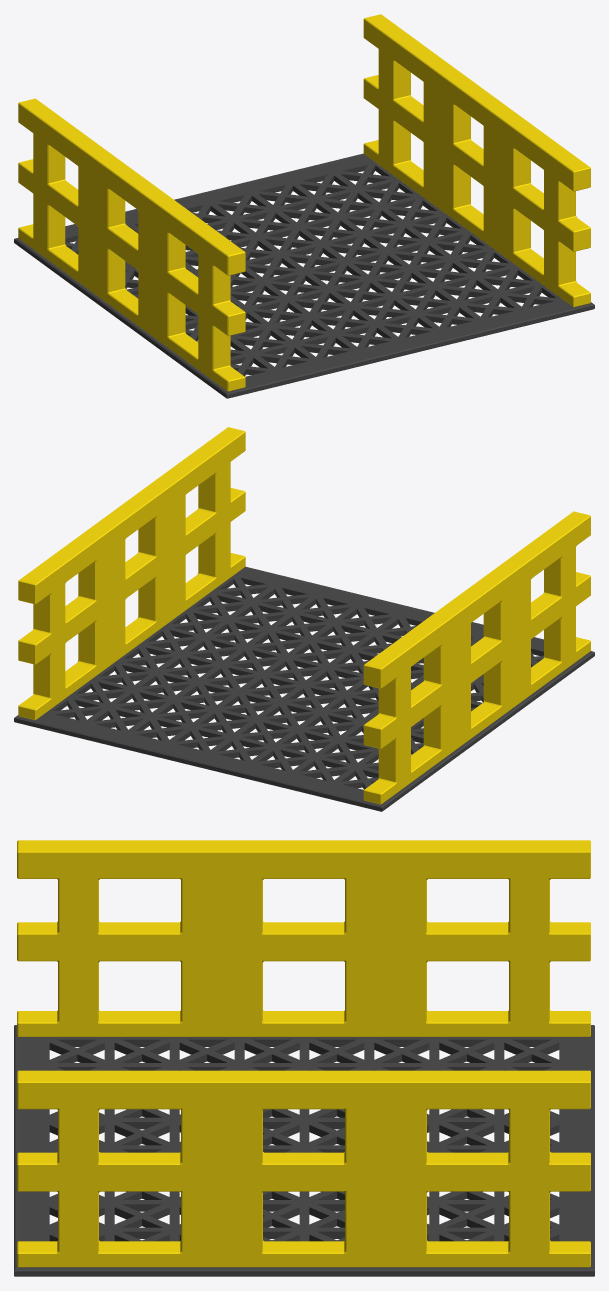
Rendered from YCatwalk.fbx.
3 views of the same model, one above another, from view 1: azimuth 30°, elevation 25°; view 2: azimuth 150°, elevation 25°; view 3: azimuth 270°, elevation 25° (orthographic). The views are drawn at different scales.
Visible parts, largest first — view 1: Fence, Catwalk; view 2: Fence, Catwalk; view 3: Fence, Catwalk.
Boxes of the visible parts, x1,y1,x2,y2 form: Fence: (18, 14, 590, 391); Catwalk: (14, 153, 594, 398); Fence: (18, 427, 590, 804); Catwalk: (14, 566, 594, 811); Fence: (17, 840, 590, 1267); Catwalk: (14, 1025, 594, 1276).
Size of the model in its own units: 616 by 227 by 616.
